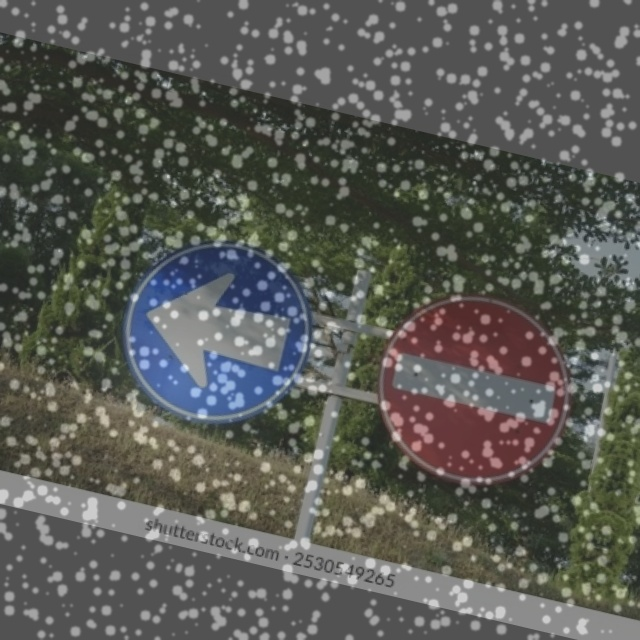Compulsory_Turn_Left: (103, 219, 329, 441)
